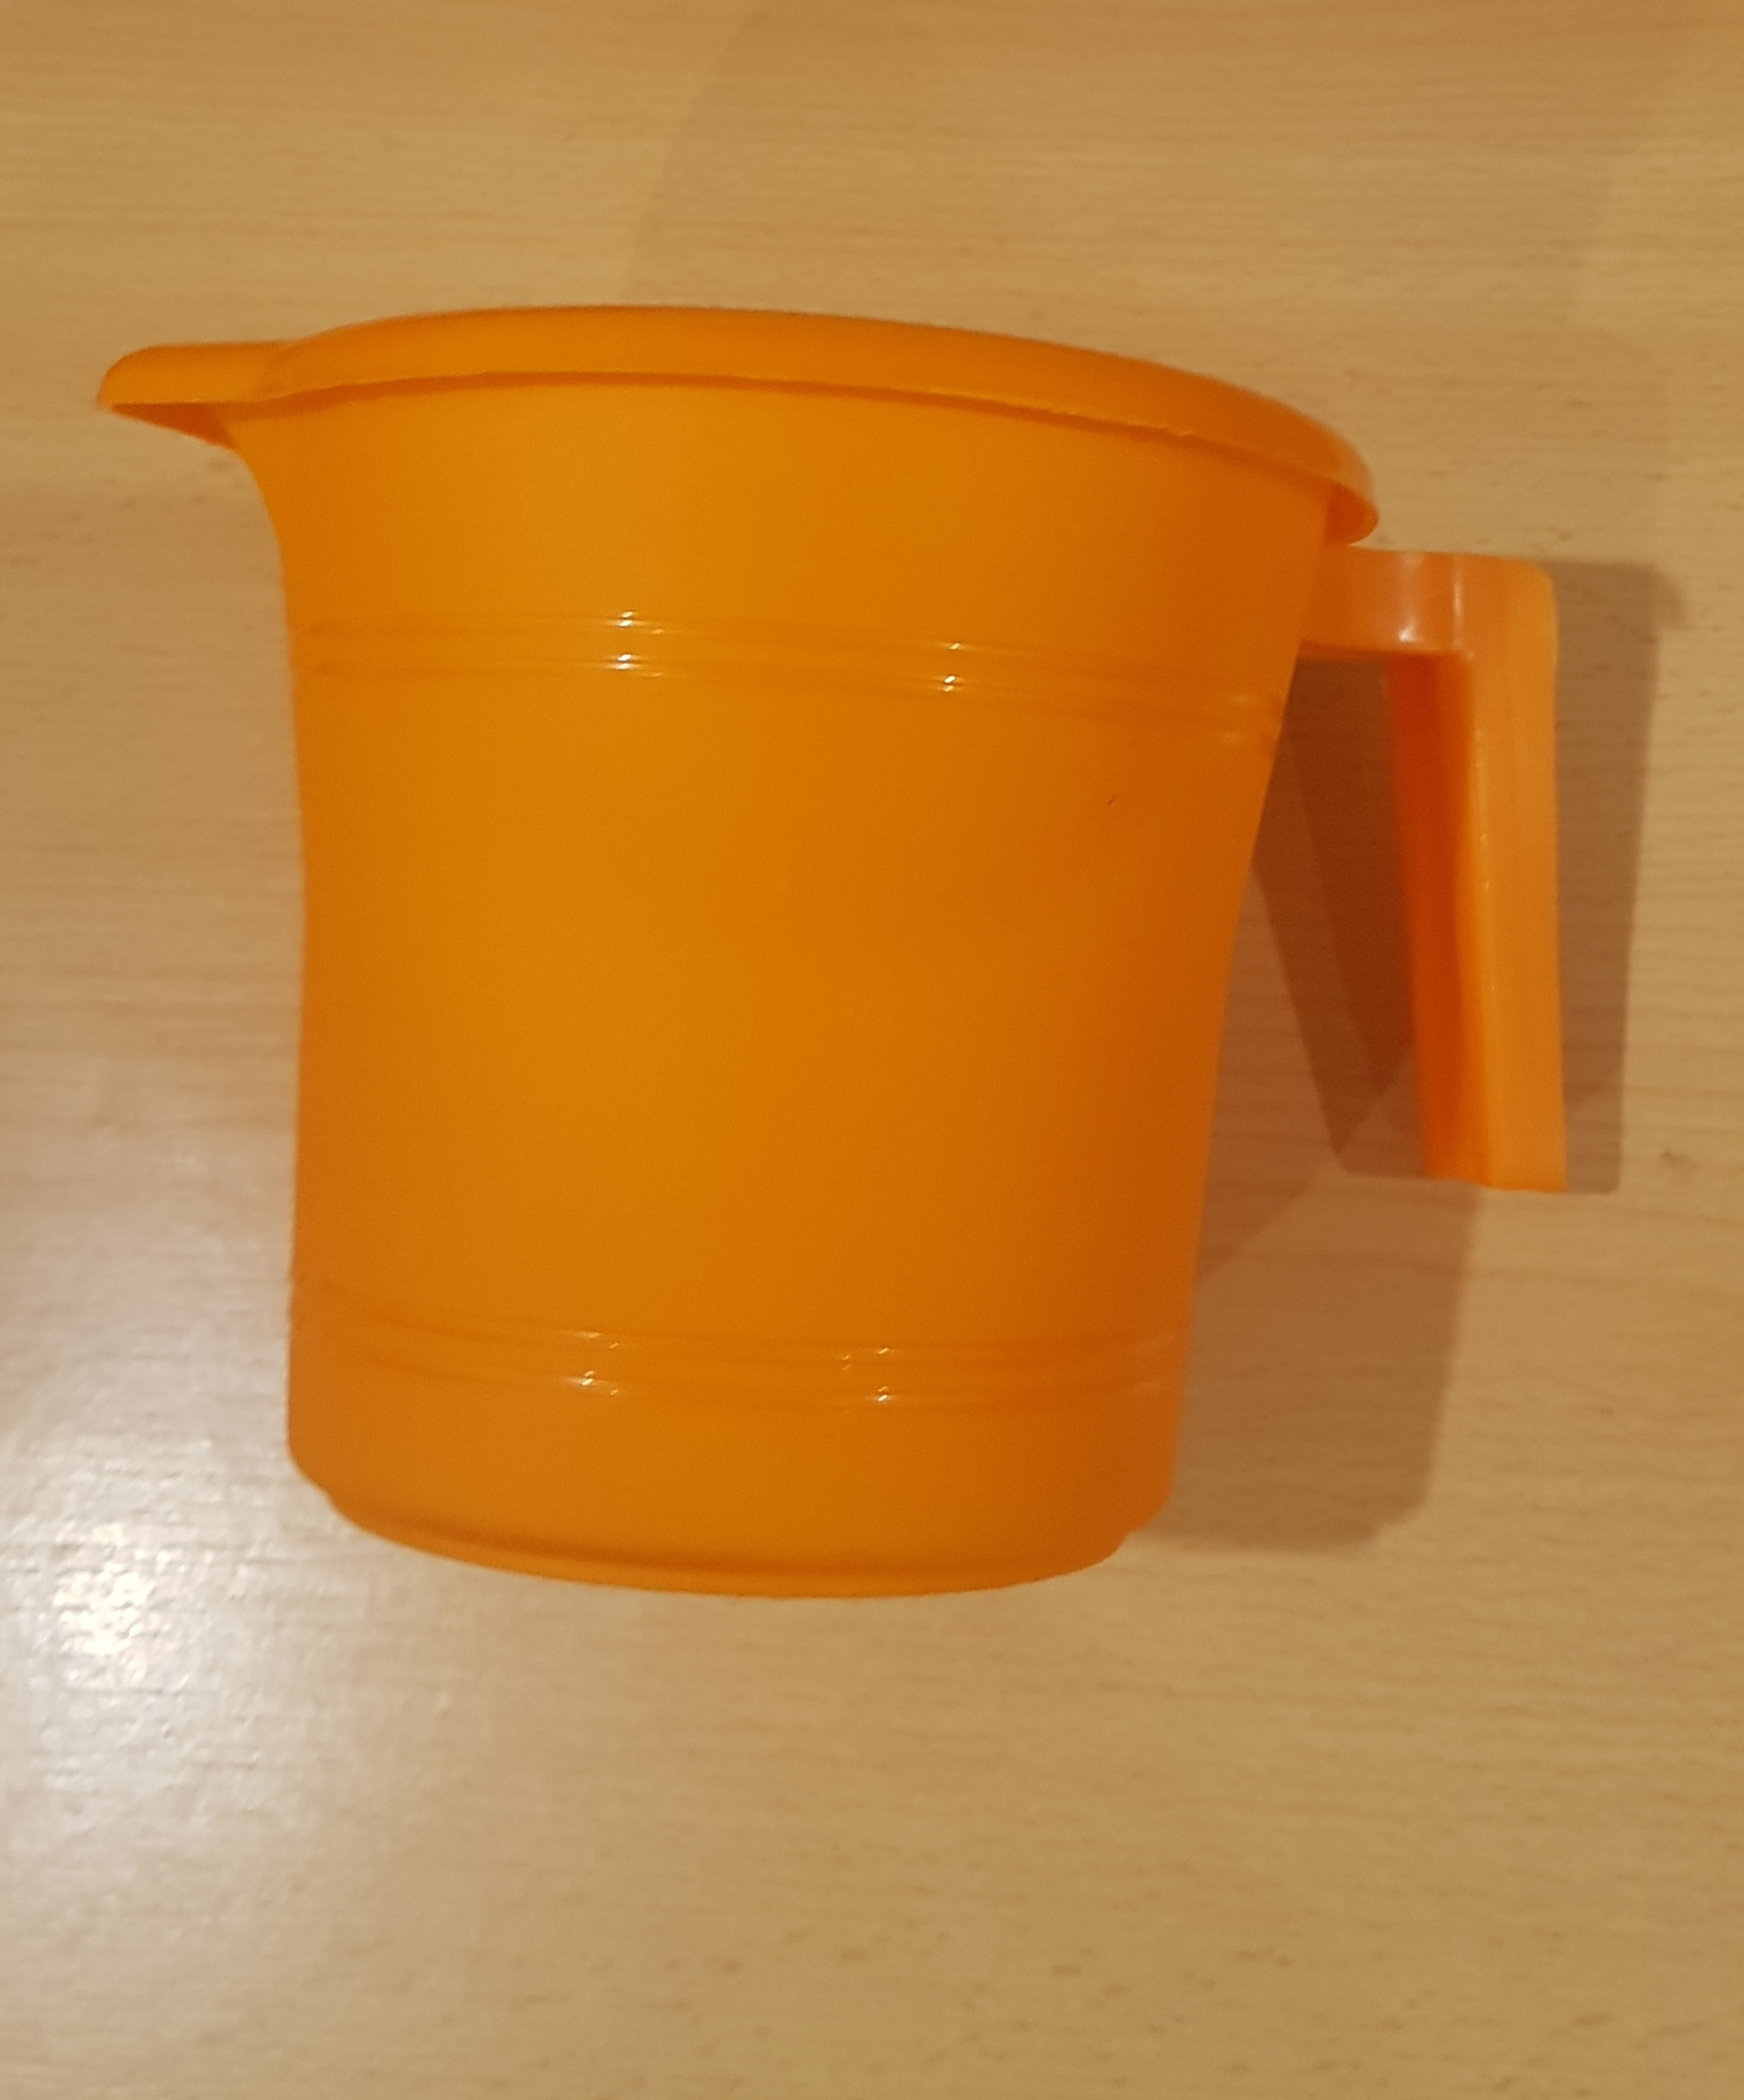Orange: (84, 305, 1592, 1622)
